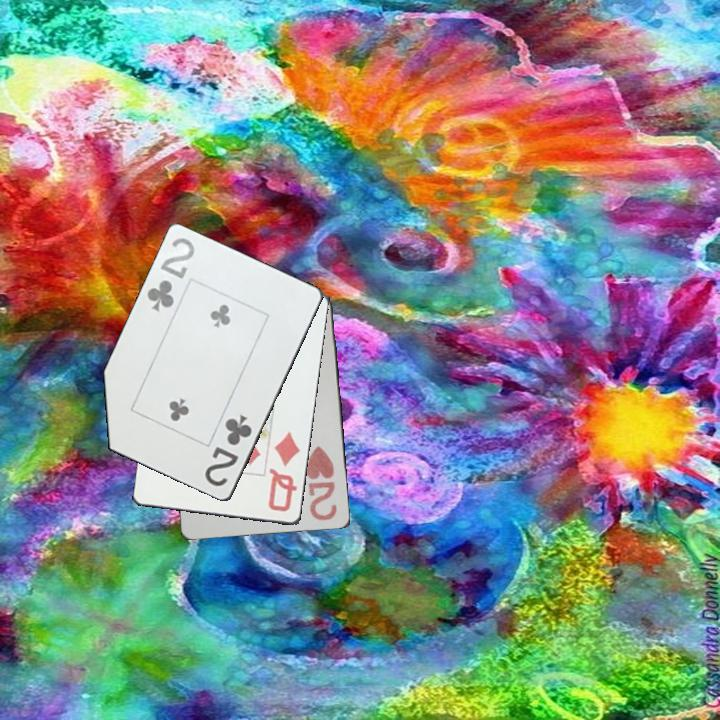2c: (143, 234, 198, 315), (201, 411, 255, 490)
2h: (303, 443, 340, 524)
Qd: (265, 429, 303, 515)
